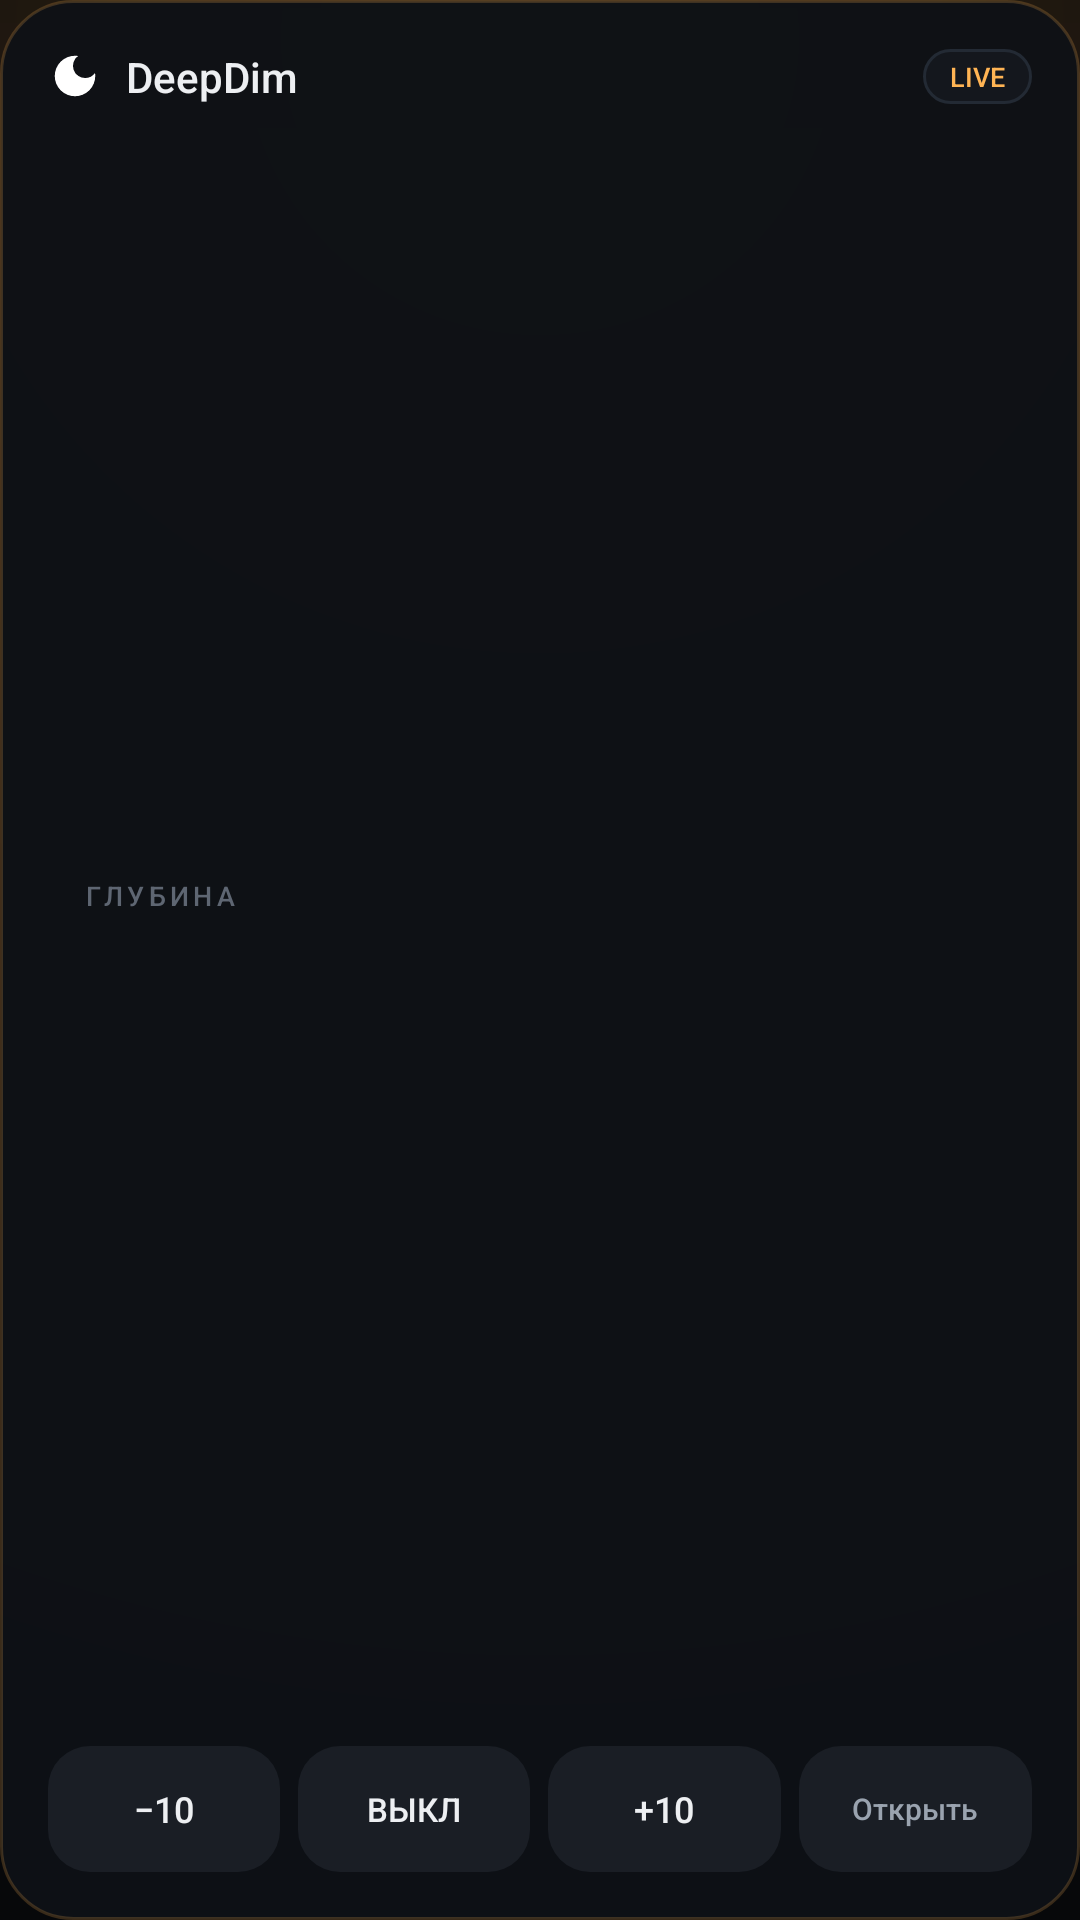

Named icons in this screenshot (1080 × 1920) and their bounding boxes, (x1, y1, x2, y2):
moon: (54, 55, 96, 97)
